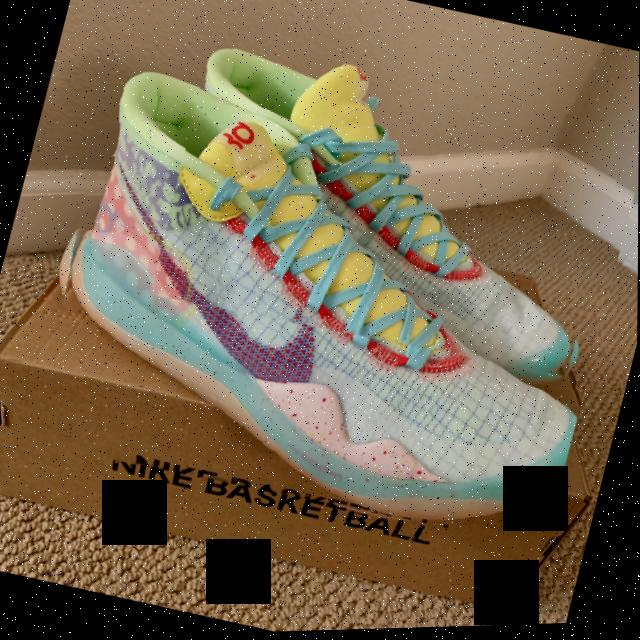shoe: (13, 48, 639, 571), (147, 26, 631, 399)
